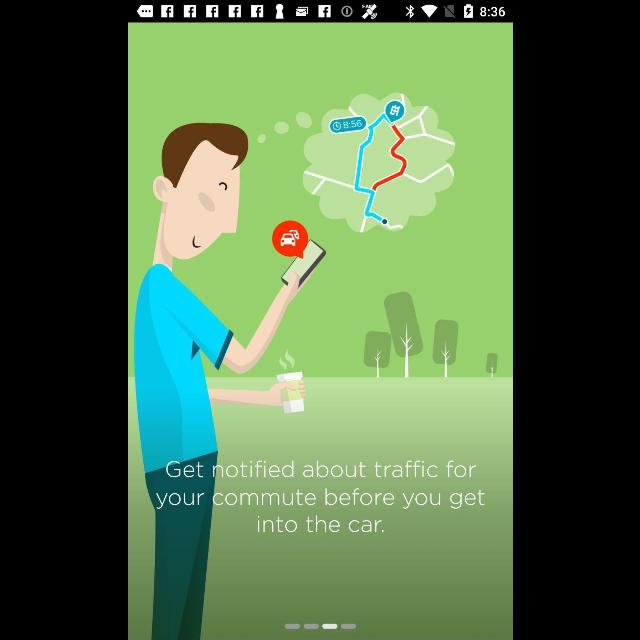backgroundimage: (128, 22, 512, 640)
pageindicator: (284, 623, 356, 629)
text: (156, 461, 484, 534)
uppertaskbar: (128, 1, 512, 23)
